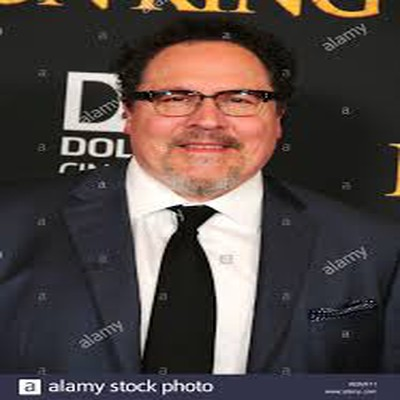eywear: (138, 82, 282, 131)
